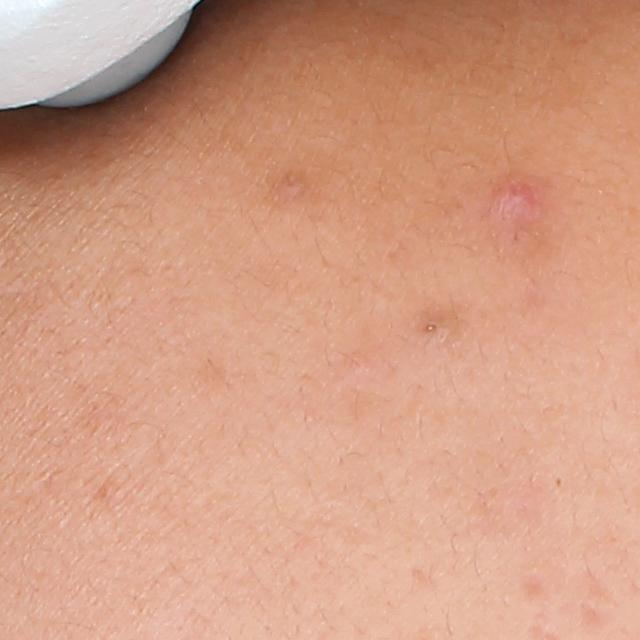atrophic_scar: (580, 601, 616, 631), (519, 576, 549, 599)
comedo: (417, 316, 448, 338), (550, 471, 570, 493)
papule: (486, 177, 545, 228)
